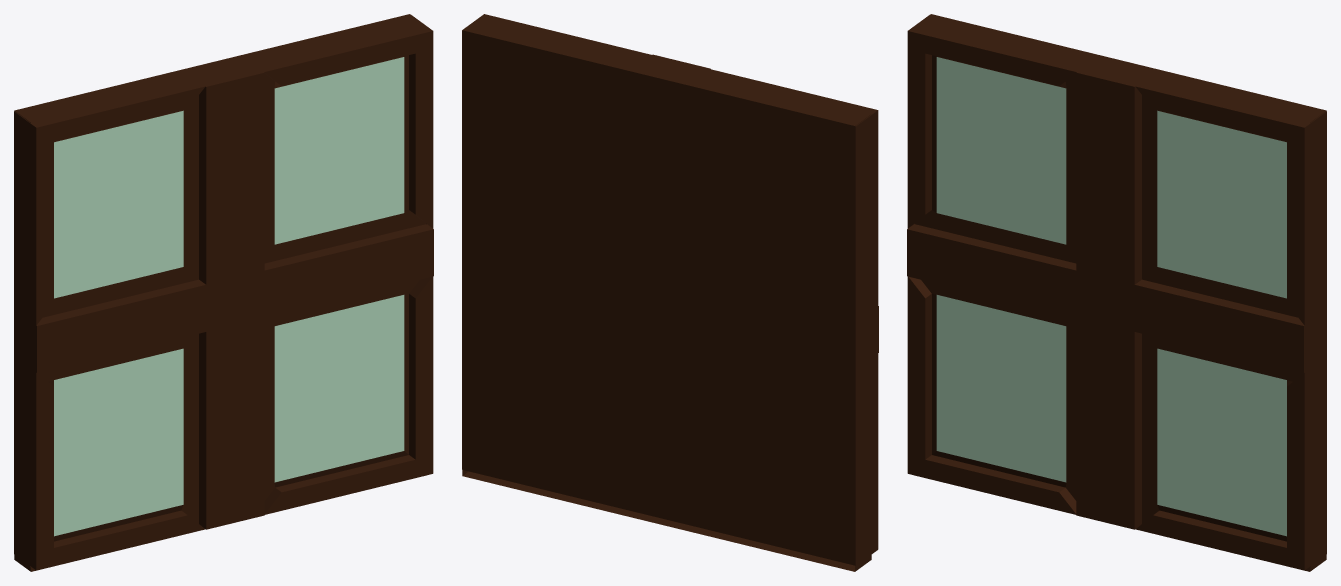
Rendered from ventana.fbx.
3 views of the same model, side by side, from view 1: azimuth 30°, elevation 25°; view 2: azimuth 150°, elevation 25°; view 3: azimuth 330°, elevation 25° (orthographic).
Visible parts, largest first — view 1: Pared_1.001; view 2: Pared_1.001; view 3: Pared_1.001.
Boxes of the visible parts, x1,y1,x2,y2 form: Pared_1.001: (14, 14, 433, 571); Pared_1.001: (462, 14, 878, 571); Pared_1.001: (907, 14, 1326, 571).
Size of the model in its own units: 659 by 713 by 67.28.
